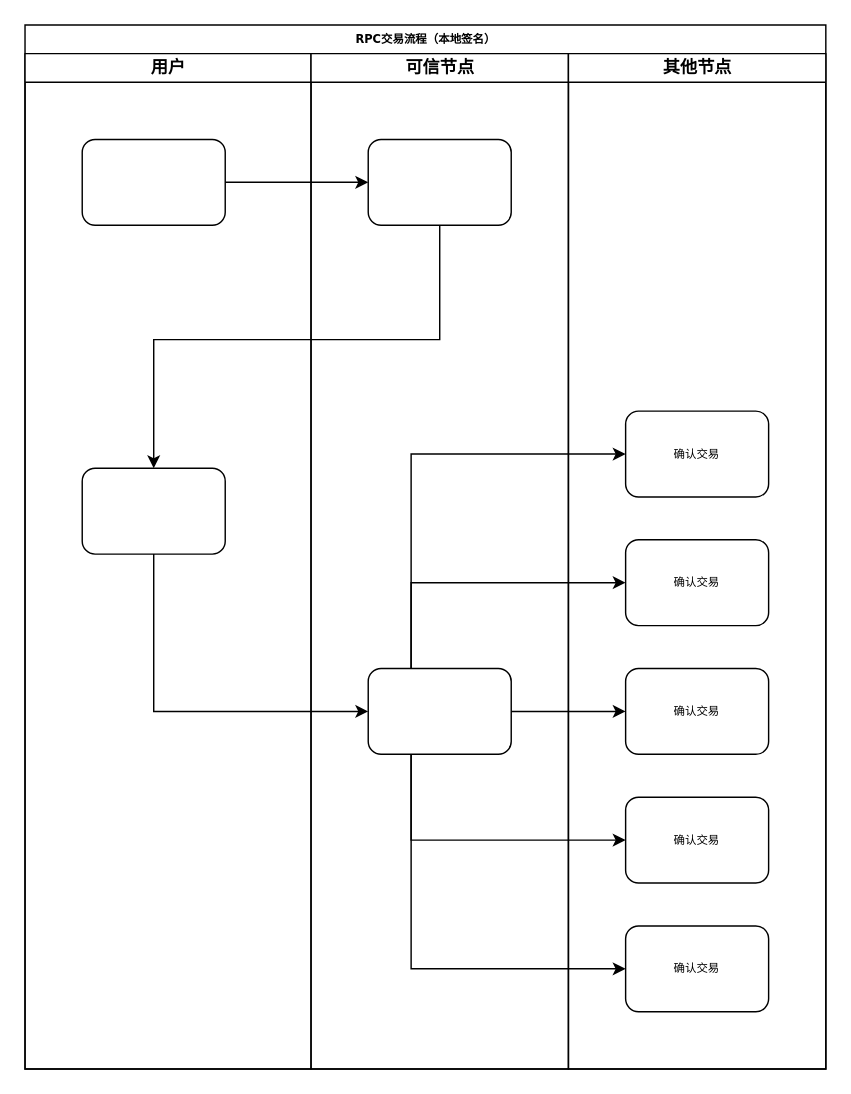
Image size: 851x1094. Some labels were removed from this diagram. Each missing label, with the centre of its shape:
"创建交易信息" belongs at point (439, 181).
"发起交易" belongs at point (153, 181).
"发送签名的交易" belongs at point (439, 710).
"本地签名" belongs at point (153, 510).
